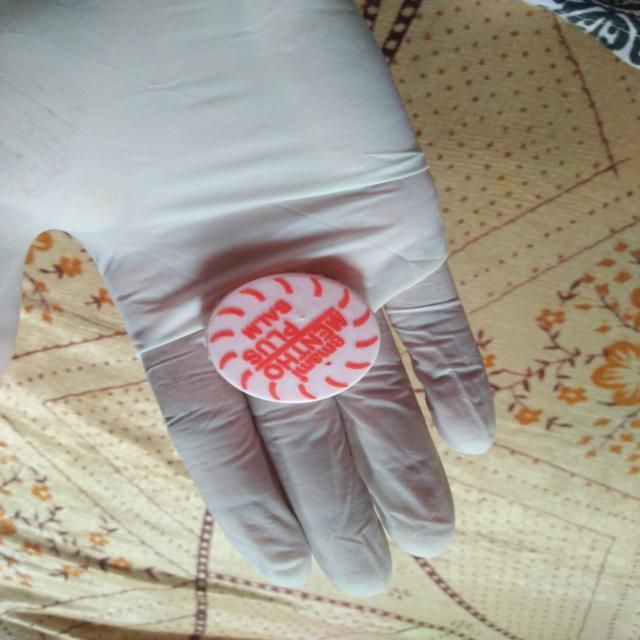gloved_hand: (1, 1, 508, 601)
